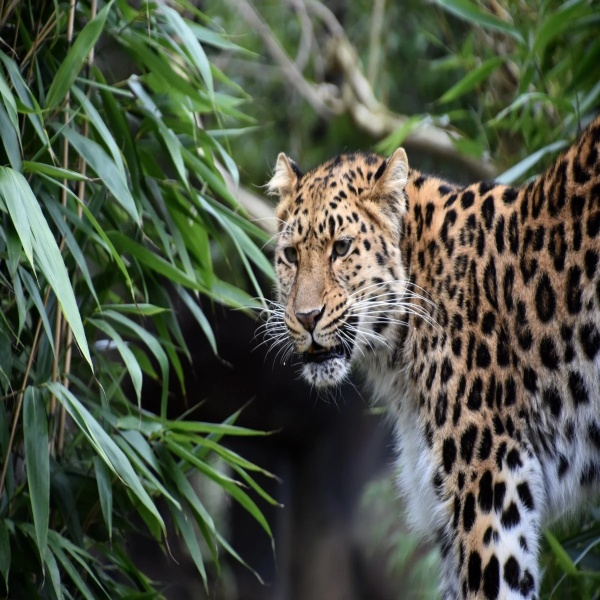Leopard: (253, 102, 600, 598)
